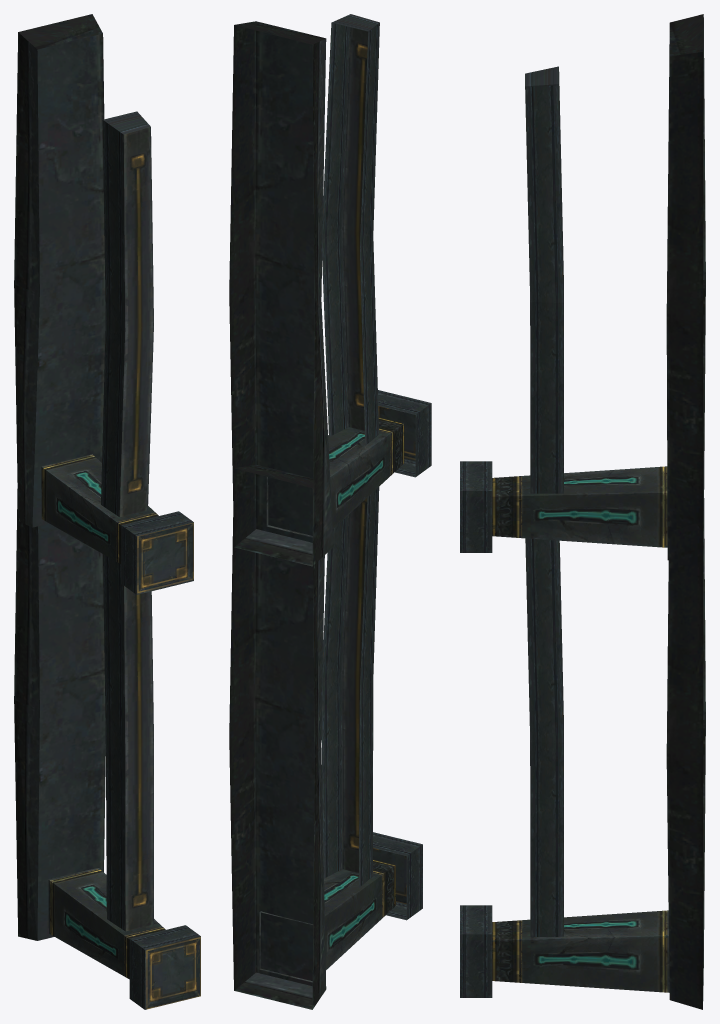
Rendered from tanxian_fuben_257_daqiao02_langan01.obj.
The picture shows the model from 3 angles, left to right: view 1: azimuth 30°, elevation 25°; view 2: azimuth 150°, elevation 25°; view 3: azimuth 270°, elevation 25°; orthographic projection. The views are drawn at different scales.
Visible parts, largest first — view 1: tanxian_fuben_257_daqiao02_langan01; view 2: tanxian_fuben_257_daqiao02_langan01; view 3: tanxian_fuben_257_daqiao02_langan01.
Boxes of the visible parts, bbox=[...] form: tanxian_fuben_257_daqiao02_langan01: bbox=[14, 14, 200, 1009]; tanxian_fuben_257_daqiao02_langan01: bbox=[229, 14, 431, 1009]; tanxian_fuben_257_daqiao02_langan01: bbox=[460, 14, 705, 1009].
Bounding box in the file's own units: 47.35 × 503 × 117.
Materials: 2 (2 with a texture image).
